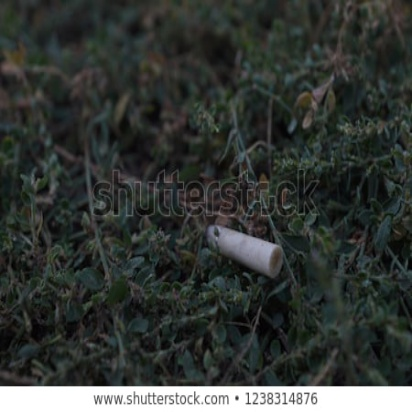cigarette: (203, 220, 290, 277)
